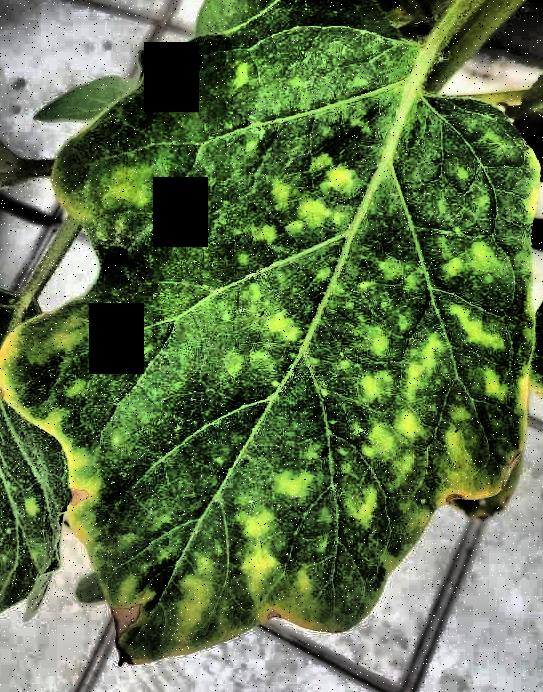Non-critical Stress: (1, 0, 543, 692)
